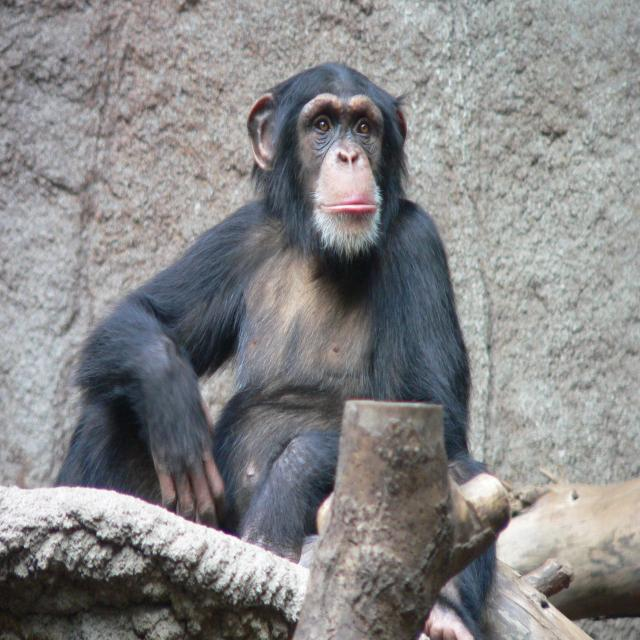Chimpanzee: (69, 52, 484, 594)
